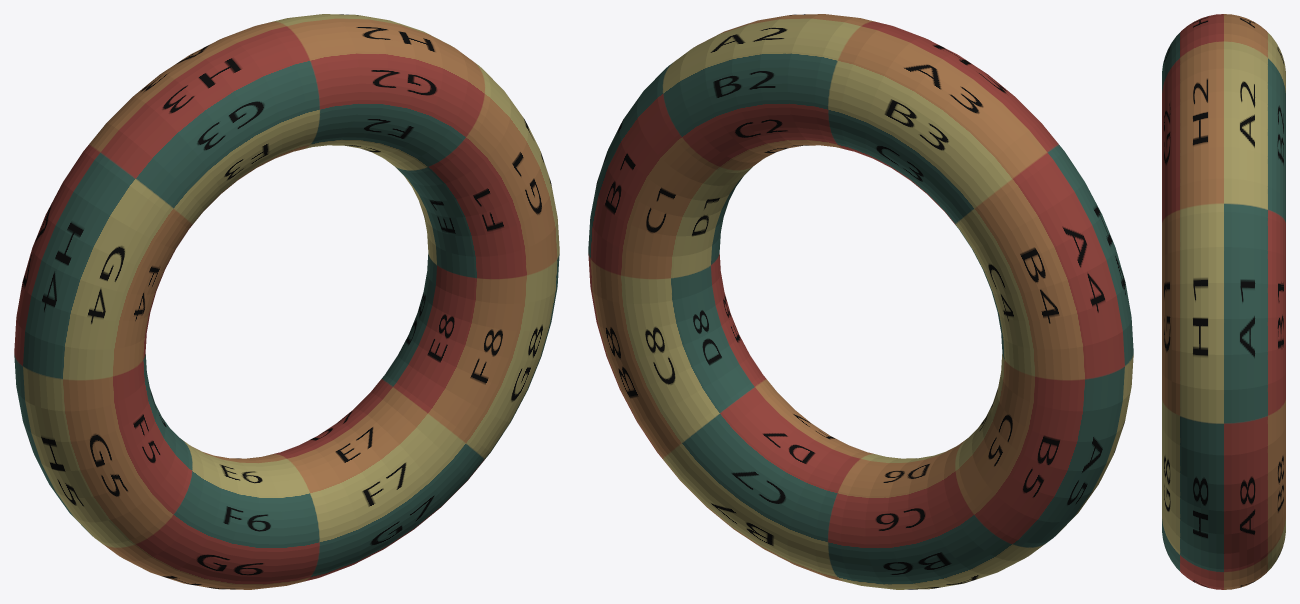
File: texture_torus_R9_r9.glb
3 renders of one model, left to right at view 1: azimuth 30°, elevation 25°; view 2: azimuth 150°, elevation 25°; view 3: azimuth 270°, elevation 25°, orthographic. The views are drawn at different scales.
Visible parts, largest first — view 1: world; view 2: world; view 3: world.
Part boxes in pixels (<box>): world: <box>14,14,559,589</box>; world: <box>588,14,1133,589</box>; world: <box>1162,14,1285,589</box>.
Bounding box in the file's own units: 20.4 × 20.36 × 4.39.
1 material, 1 textured.
